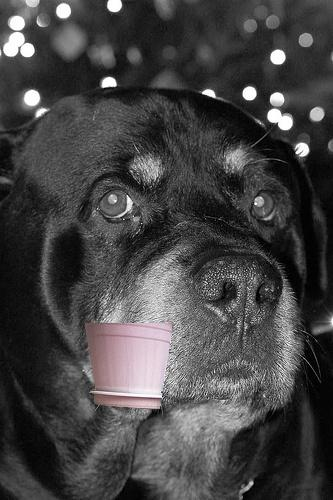tampered: (86, 324, 172, 409)
